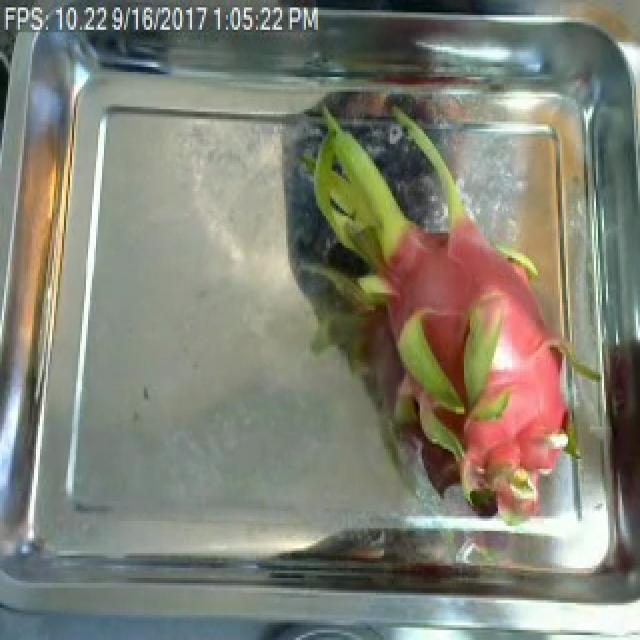fruit: (280, 109, 602, 533)
